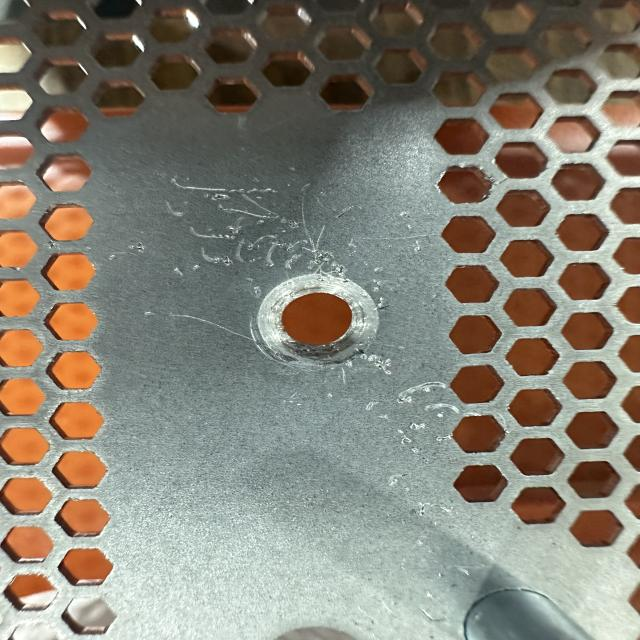Missing screw: (241, 260, 390, 382)
